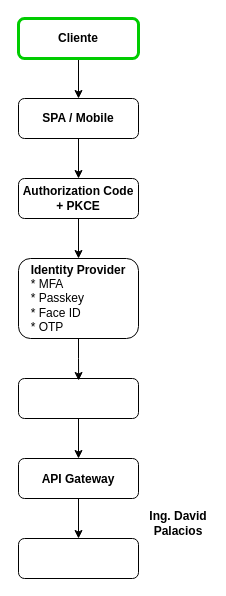
Some shapes in this 226 by 596 pixel diagram are drawn without their labels. The shapes that lost their labels are listed below. From the top down, each one's box as (x1, y1, x2, y2) in pixels, then its label:
(18, 378, 138, 418): JWT Access Token
(18, 538, 138, 578): Microservices
